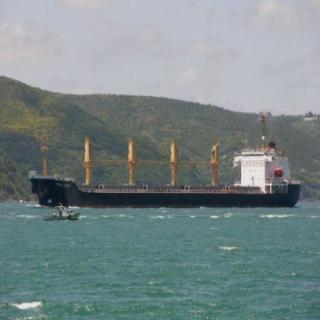Bulk Carrier: (32, 125, 308, 207)
